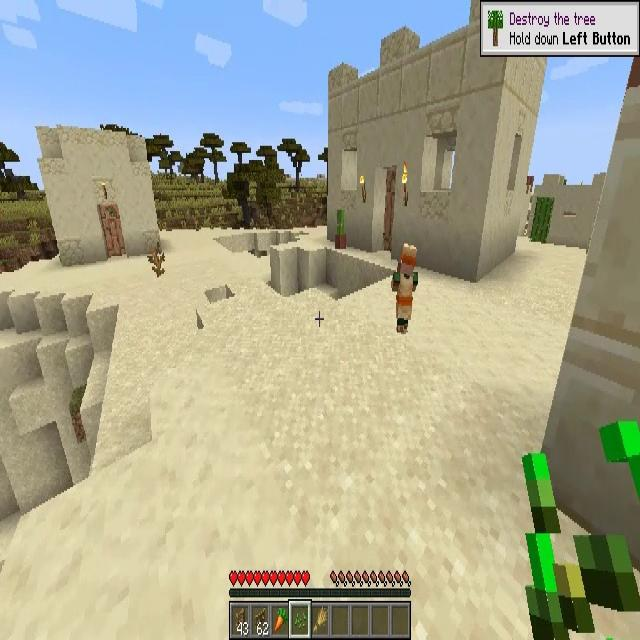people: (391, 243, 418, 333)
